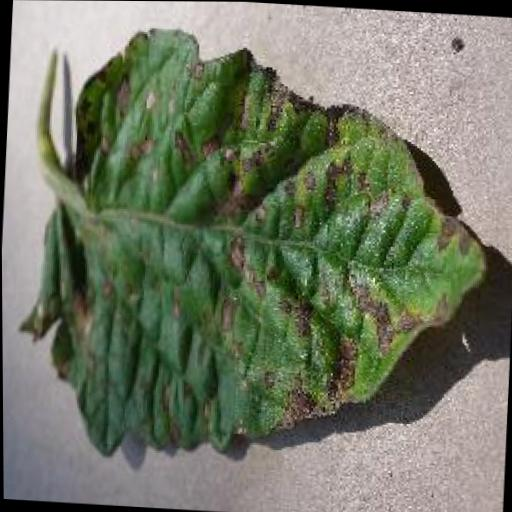Early Blight: (15, 25, 500, 476)
